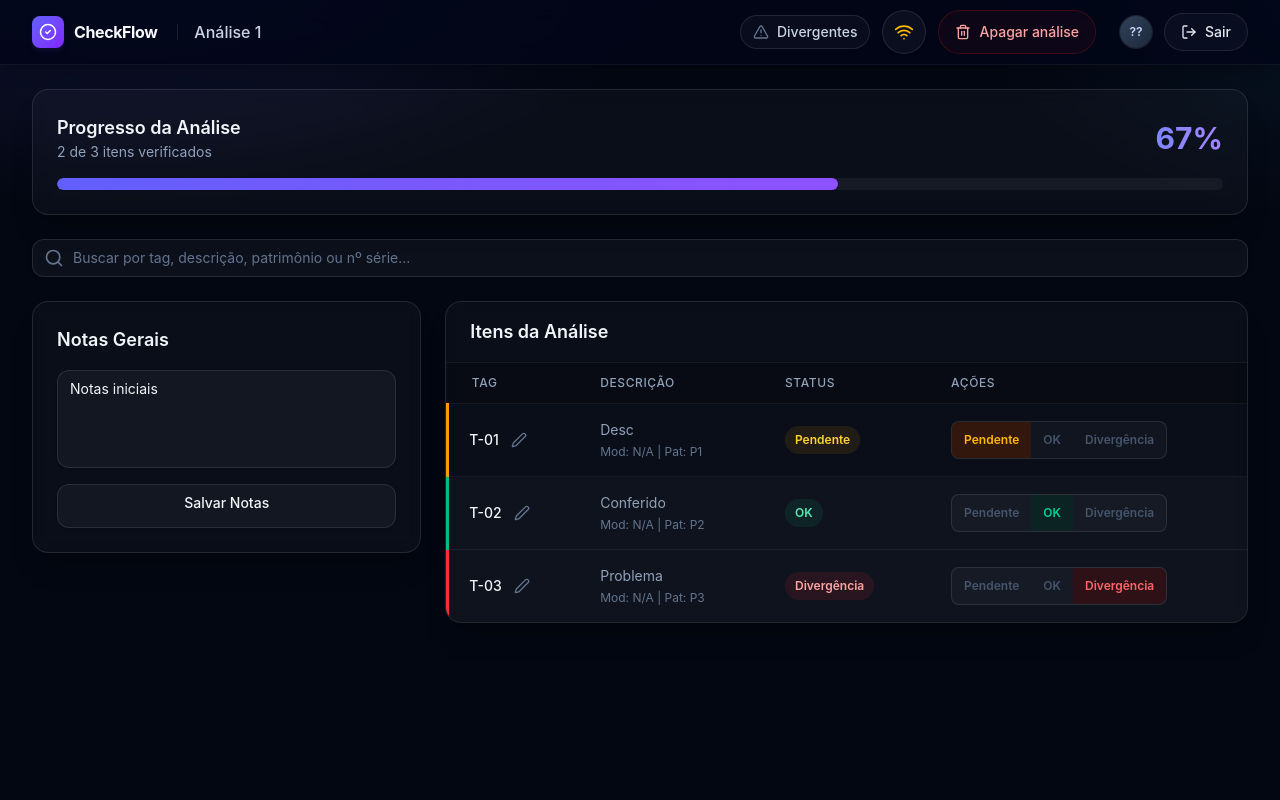
it: AnalysisDetail › renderiza itens, remove badge colaborativo e mostra ícone discreto de realtime
Expected: the text "T-01" is shown, 469,428 -> 531,452
Expected: the text "Desc" is shown, 600,421 -> 634,438
Step 1. Click the button with test id "realtime-status-button" → (904, 32), box 882,10 -> 926,54
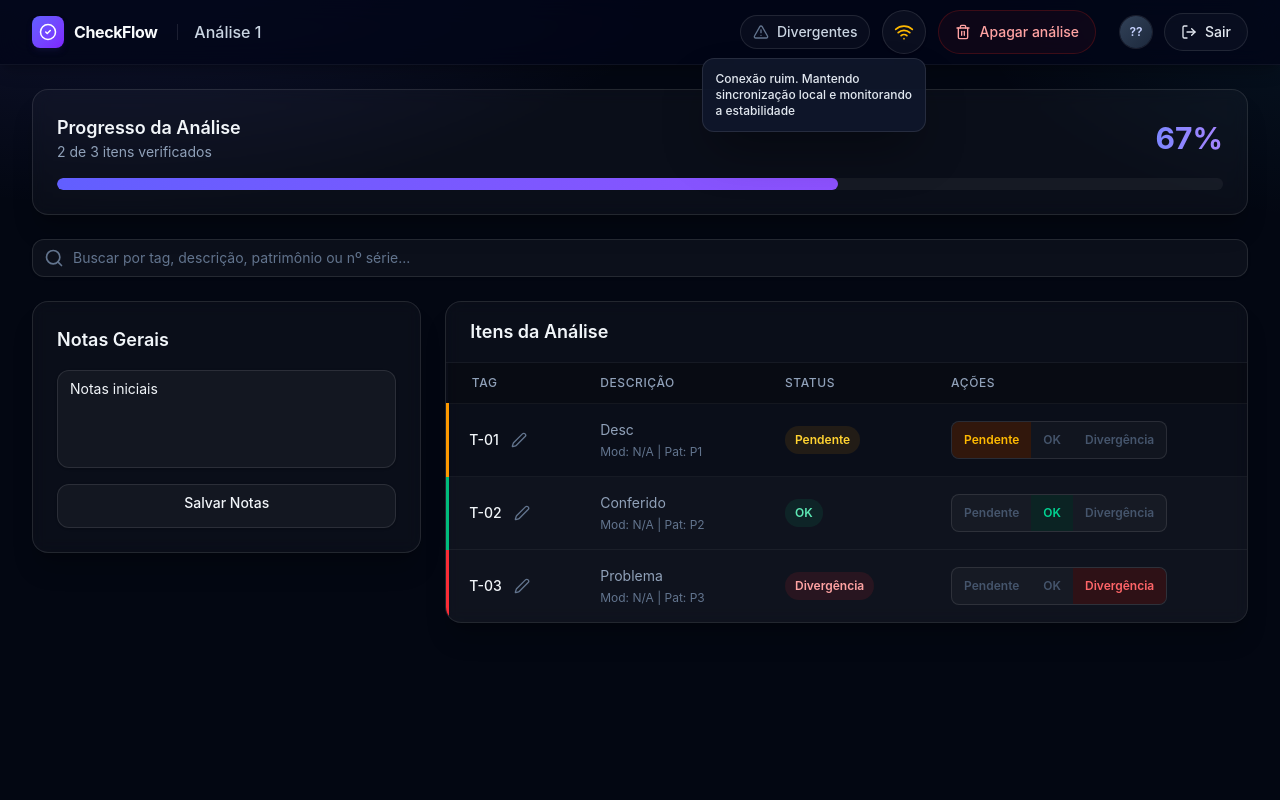
Expected: the dialog with test id "realtime-status-tooltip" reads "Conexão ruim. Mantendo sincronização local e monitorando a estabilidade", 716,71 -> 912,118
